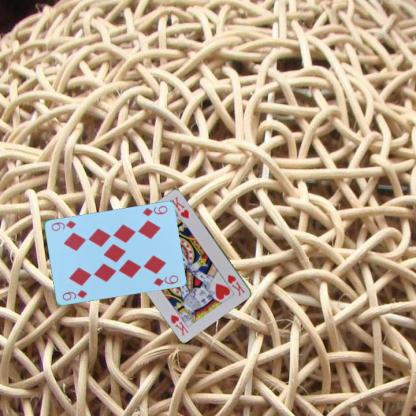9d: (60, 287, 89, 302), (140, 203, 169, 218)
Kh: (224, 272, 247, 298)
